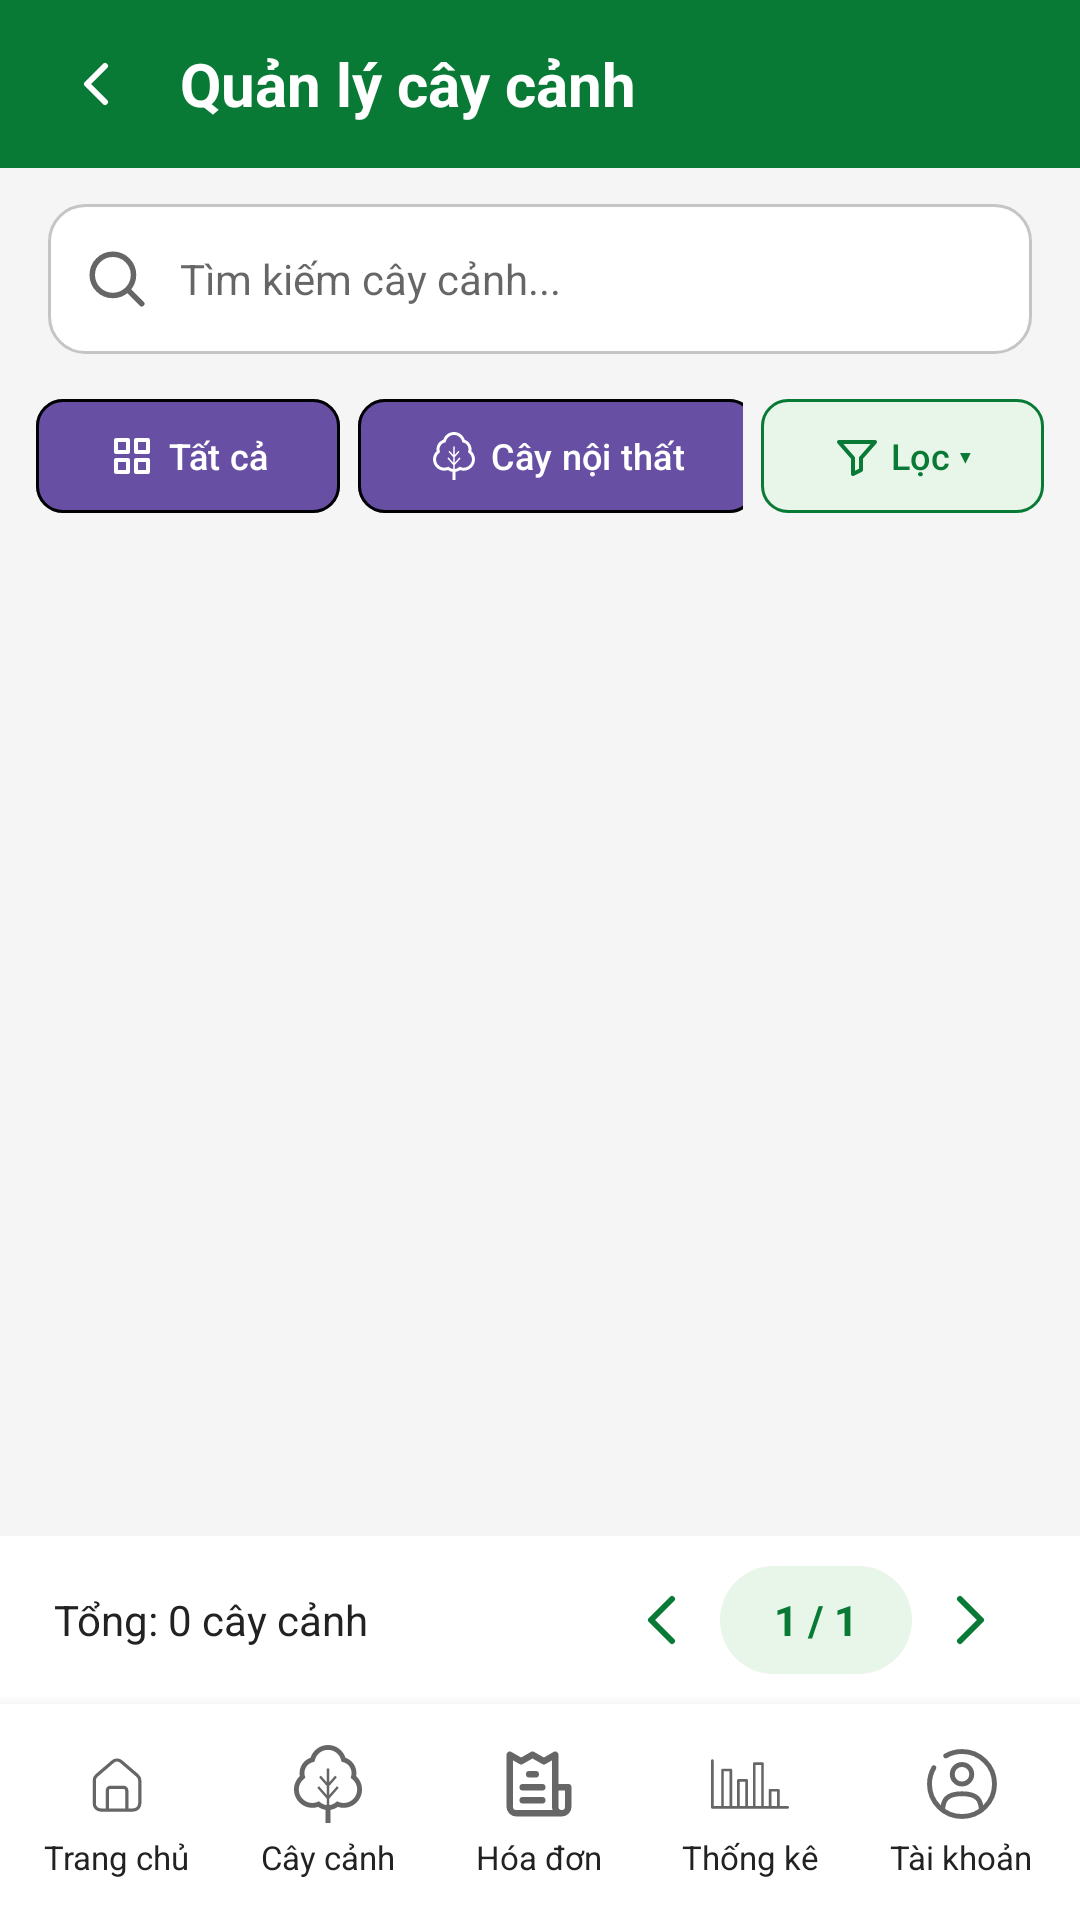

Locate icon controls on the screen. Image size 1080*1920, boxes as (x1, y1, x2, y2).
Quay lại: (84, 63, 108, 105)
search: (89, 251, 145, 307)
Trang sau: (957, 1596, 984, 1644)
Trang trước: (648, 1596, 675, 1644)
